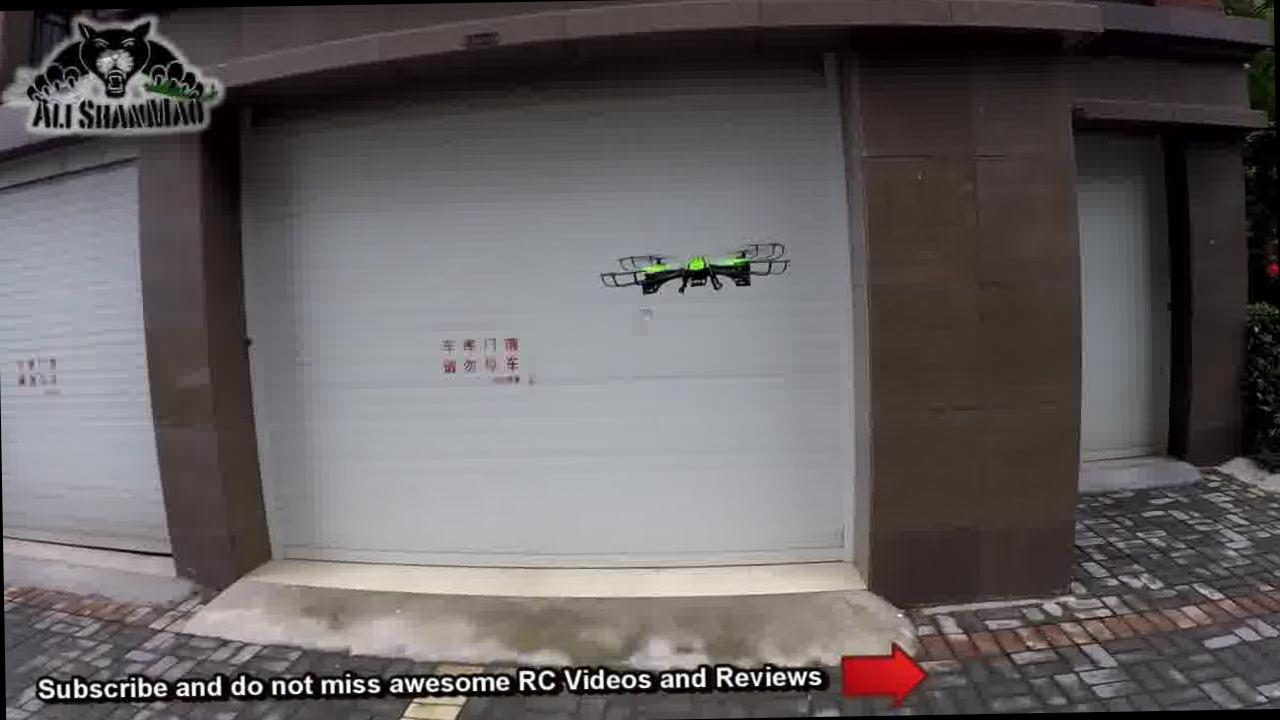drone: (589, 228, 792, 313)
